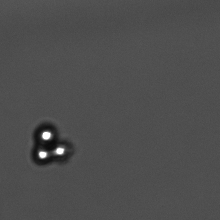Living Cell: (32, 121, 58, 145), (29, 145, 51, 164), (51, 142, 71, 161)
